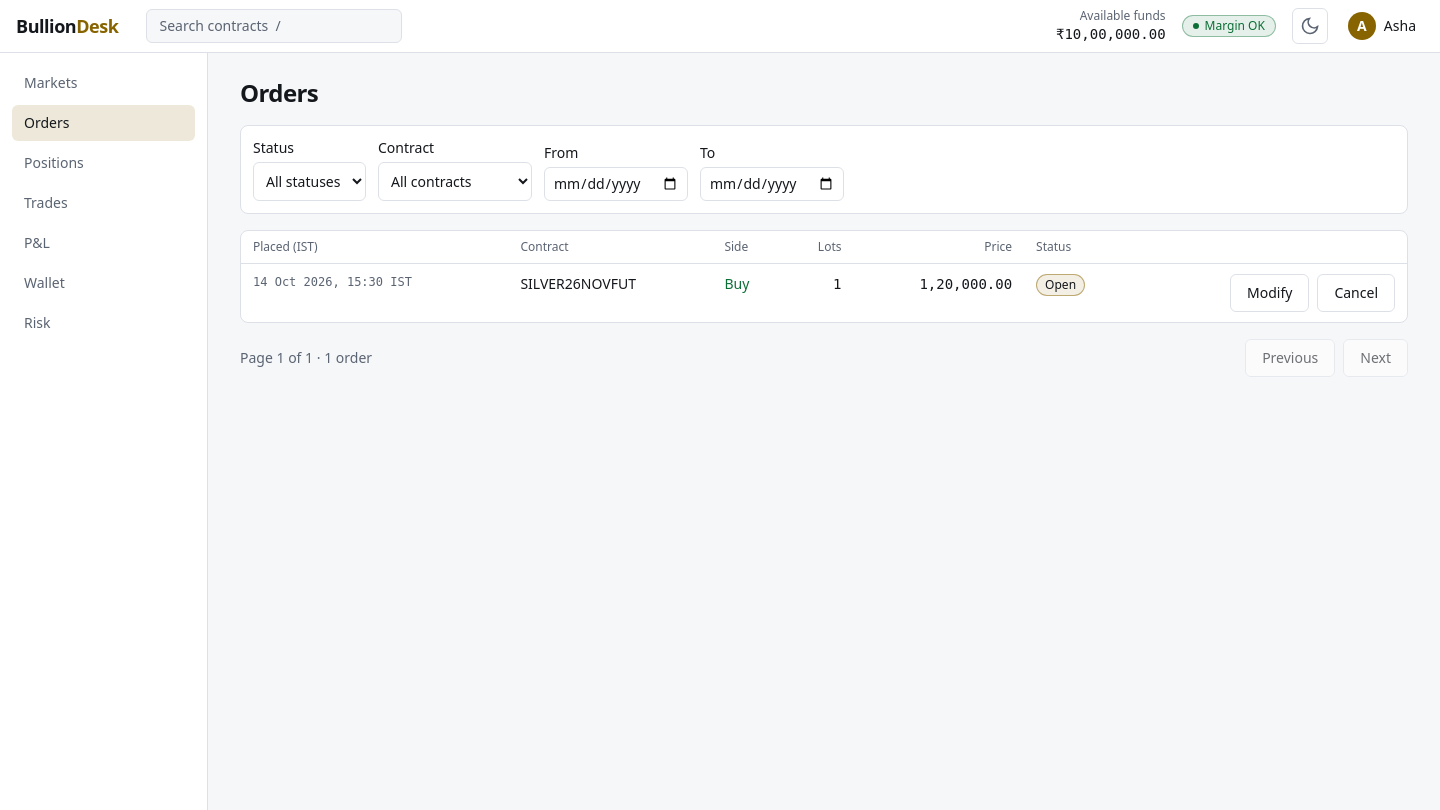
it: orders page › shows a conflict when the order already finished before the cancel arrived
Click the button with aria-label "Cancel order SILVER26NOVFUT" at point(1356, 293), box [1317,274,1395,312]
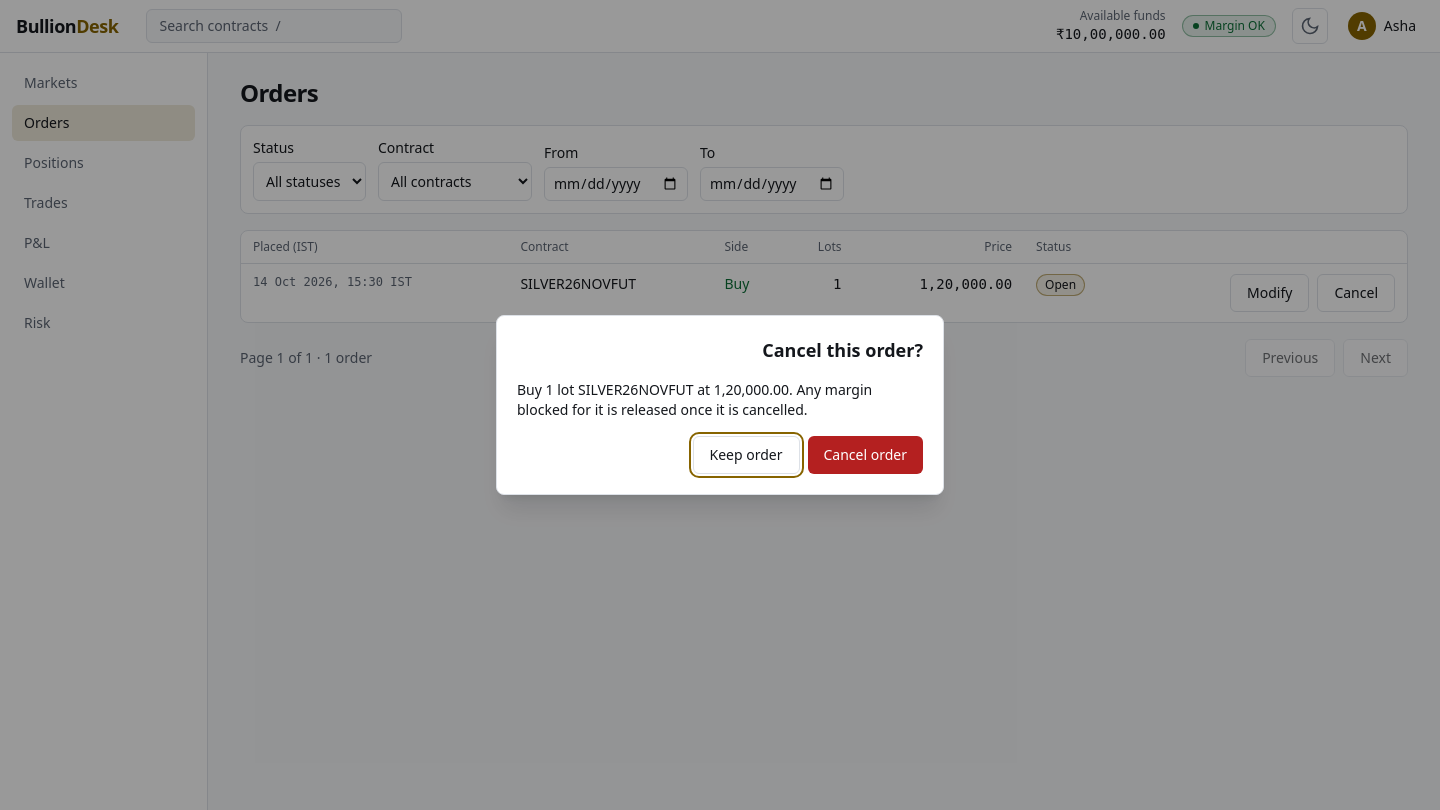
Click the button "Cancel order" at point(865, 455), box [808,436,923,474]
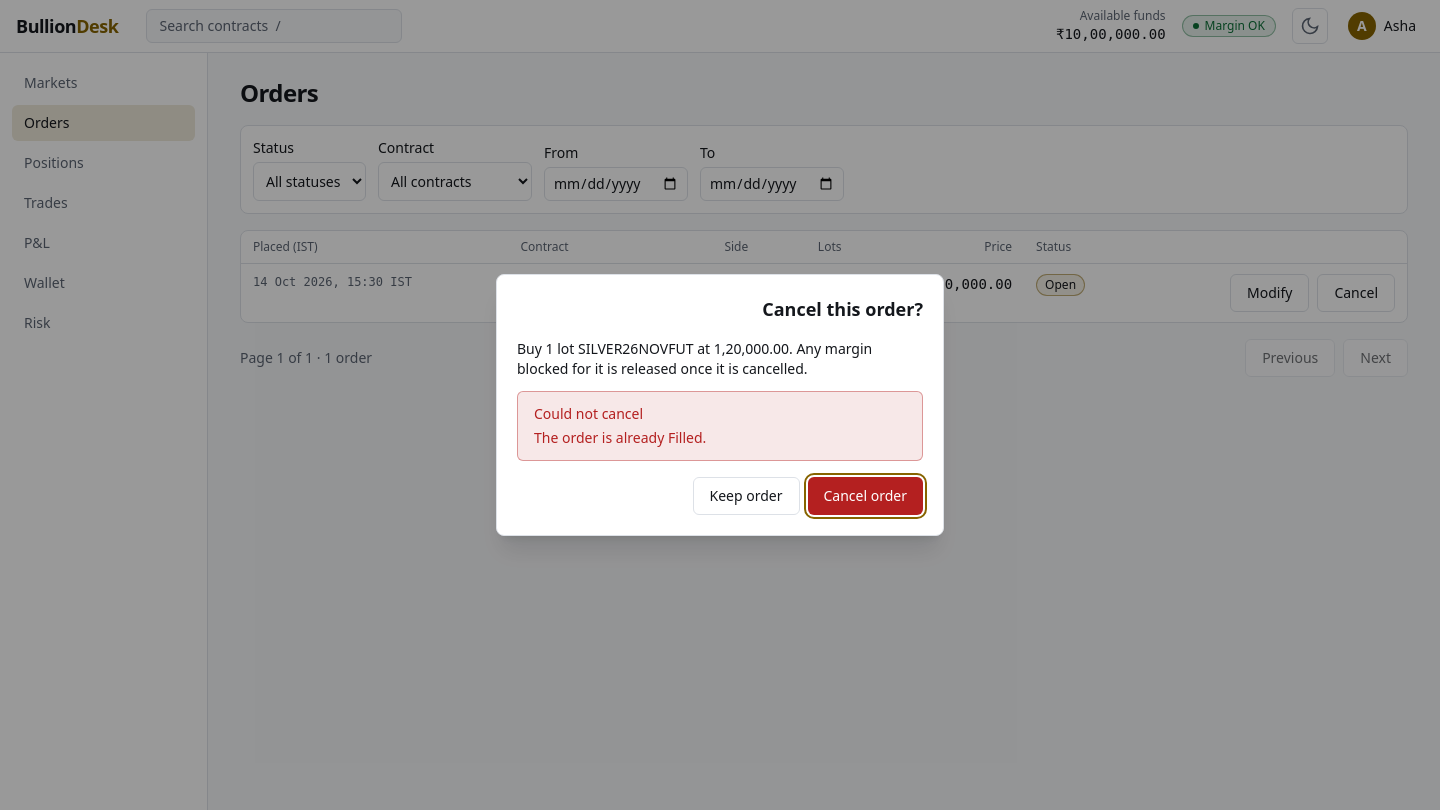
Expected: the message shows "The order is already Filled.", [534,428,706,447]
